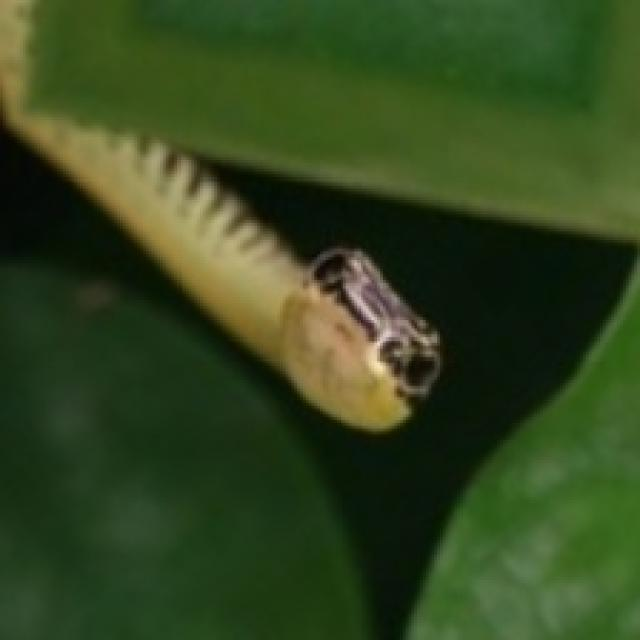paradise tree snake: (0, 0, 440, 431)
